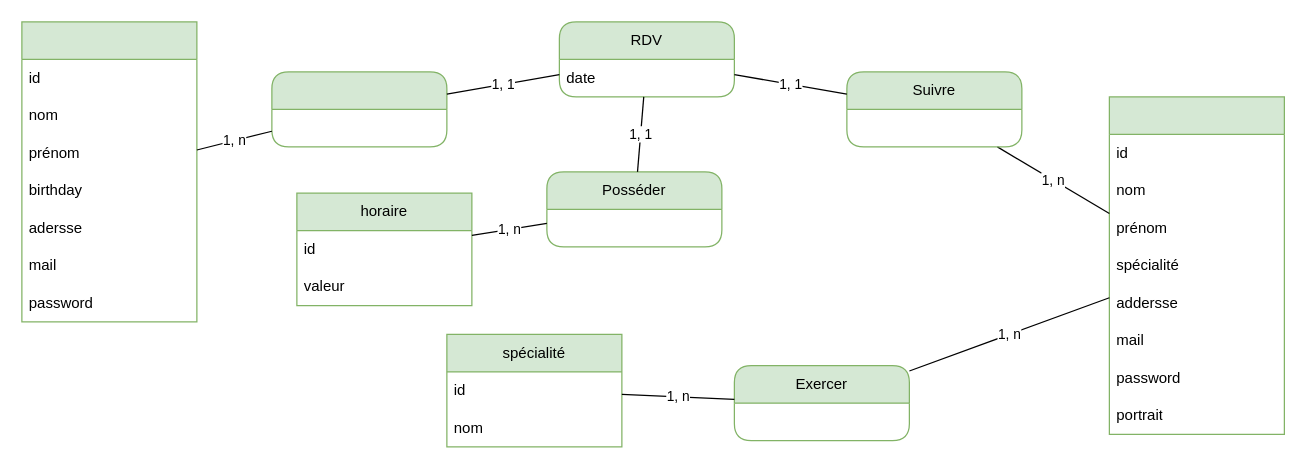
Image size: 1306x469. Some labels were removed from this diagram. Each missing label, with the box of its shape:
patient: (21, 21, 197, 322)
praticien: (1108, 96, 1284, 434)
Prendre: (271, 71, 447, 147)
